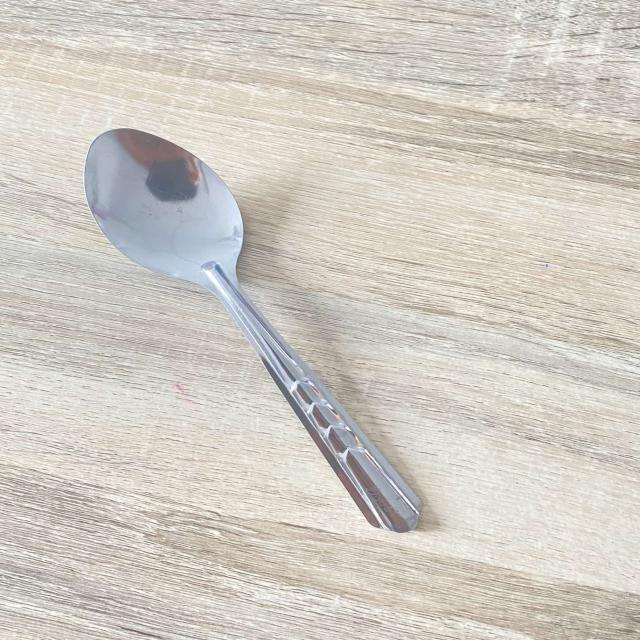spoon: (50, 120, 488, 539)
